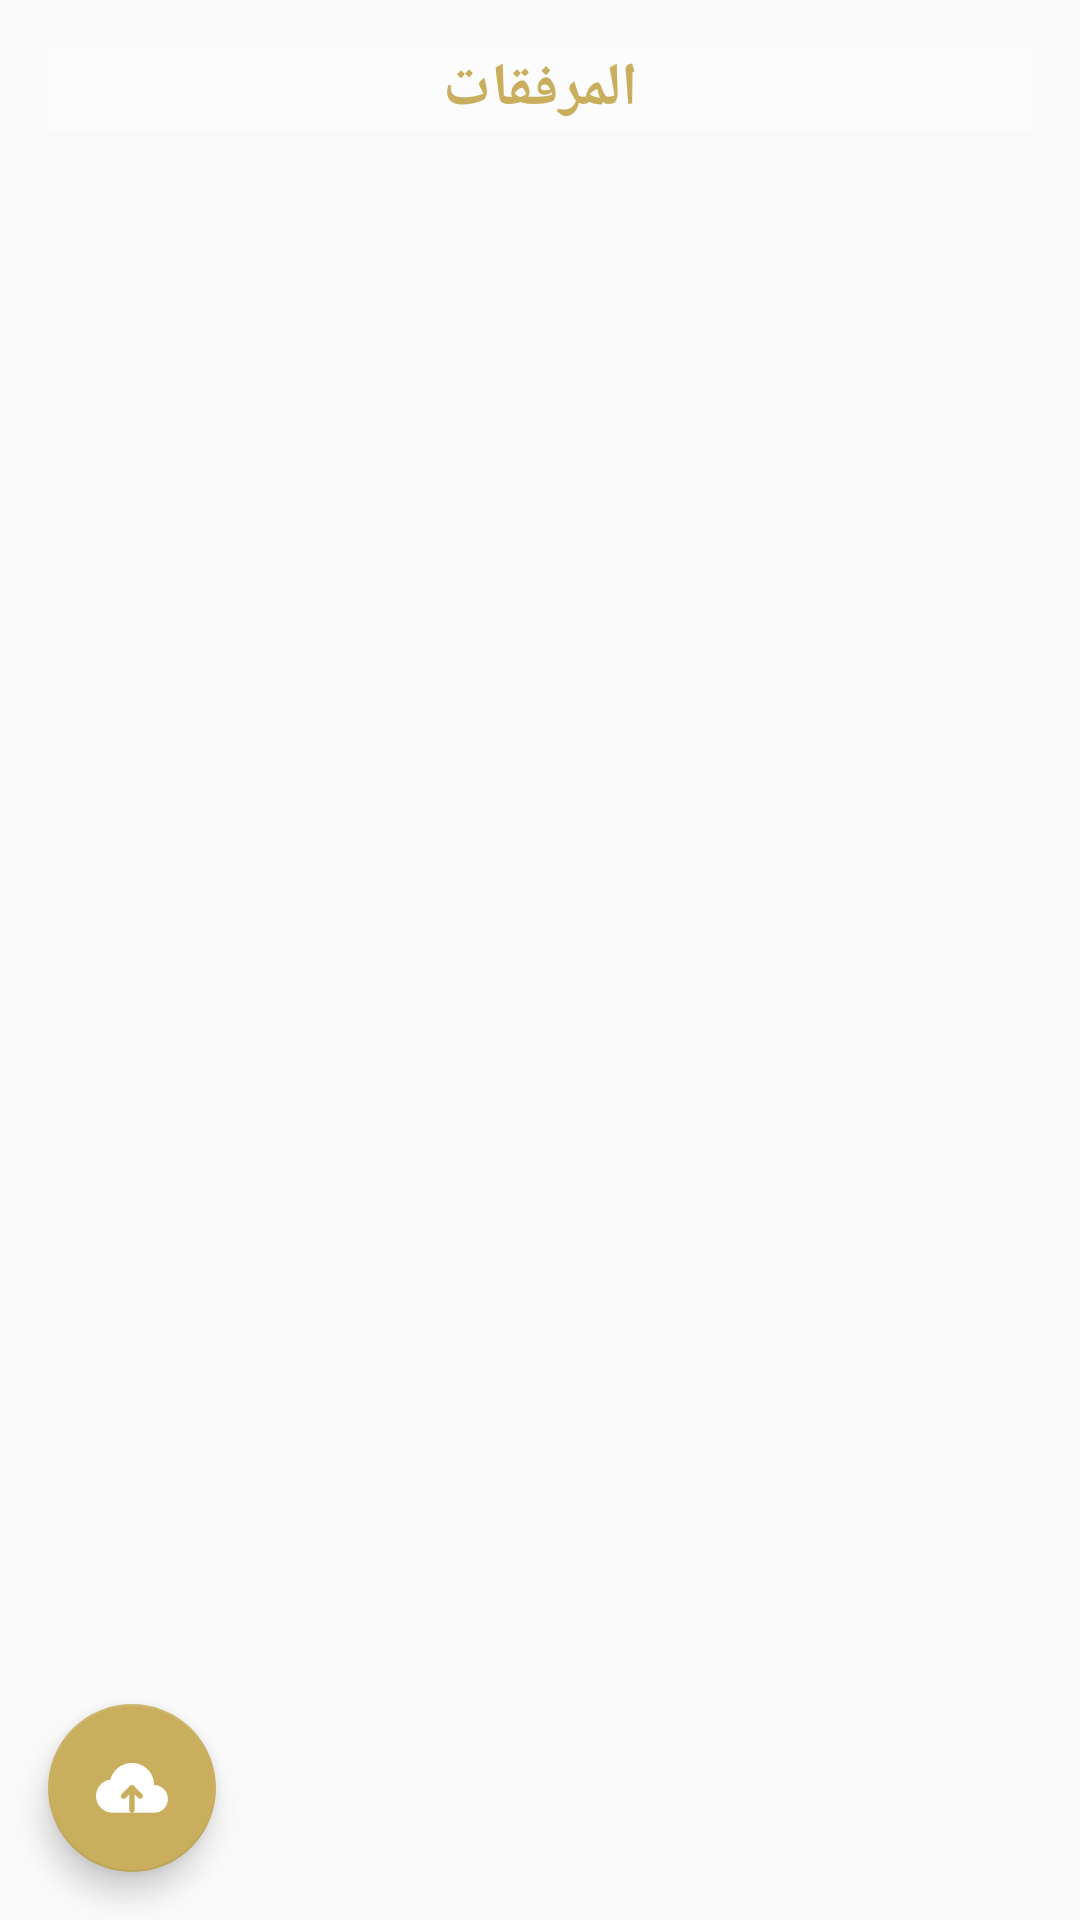

Icon click points for this 1080x1920 phone screenshot, format (x=x, y=y):
upload: (x=132, y=1788)
